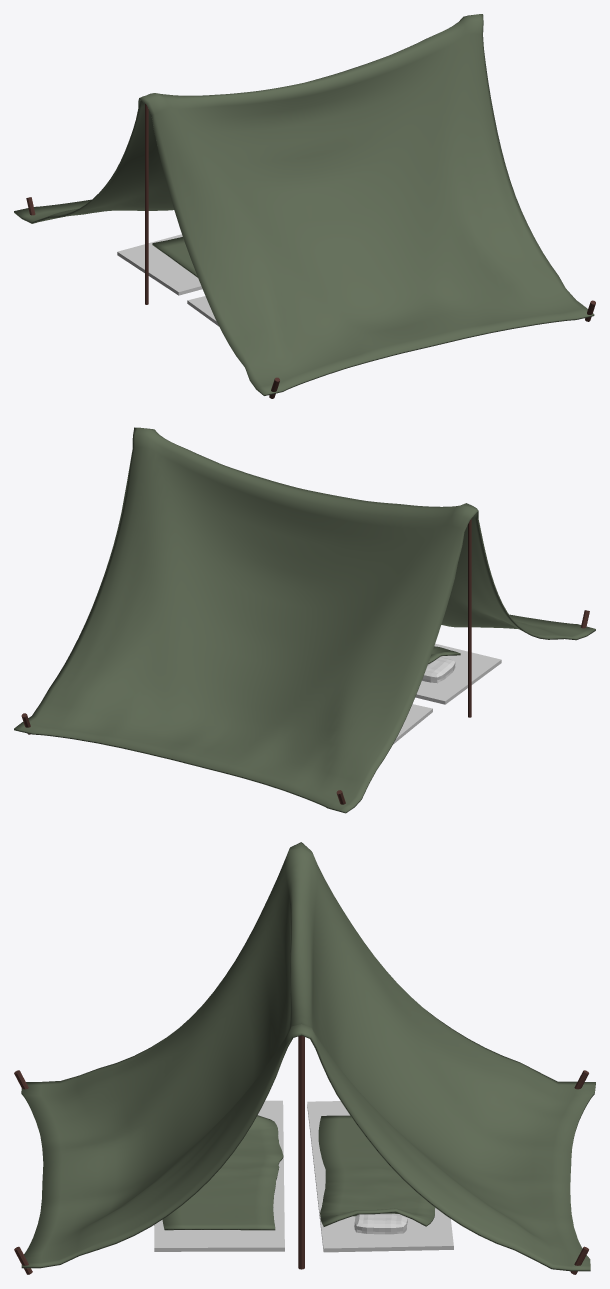
Rendered from Tent01.fbx.
3 views of the same model, one above another, from view 1: azimuth 30°, elevation 25°; view 2: azimuth 150°, elevation 25°; view 3: azimuth 270°, elevation 25° (orthographic). The views are drawn at different scales.
Parts seen in each view (by area): view 1: TentCloth, Matress02, Tent_Bars, Duvet02; view 2: TentCloth, Matress01, Tent_Bars, Pillow01, Matress02; view 3: TentCloth, Duvet02, Duvet_01, Matress02, Matress01, Tent_Bars, Pillow02, Tent_Plugs.
Part boxes in pixels (x1,y1,x2,y2): TentCloth: (14, 14, 594, 395); Matress02: (117, 234, 202, 295); Tent_Bars: (145, 103, 148, 304); Duvet02: (152, 237, 197, 277); TentCloth: (14, 427, 595, 813); Matress01: (415, 643, 501, 704); Tent_Bars: (468, 519, 471, 717); Pillow01: (422, 657, 455, 683); Matress02: (393, 704, 432, 744); TentCloth: (21, 842, 595, 1271); Duvet02: (318, 1115, 435, 1226); Duvet_01: (162, 1115, 283, 1230); Matress02: (307, 1101, 453, 1252); Matress01: (154, 1100, 284, 1251); Tent_Bars: (298, 1035, 304, 1269); Pillow02: (354, 1213, 407, 1234); Tent_Plugs: (14, 1070, 588, 1274).
Bounding box in the file's own units: 209 × 127 × 268.
